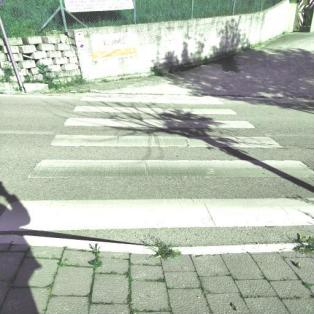Paso de Cebra: (2, 152, 313, 236), (61, 104, 261, 132)
